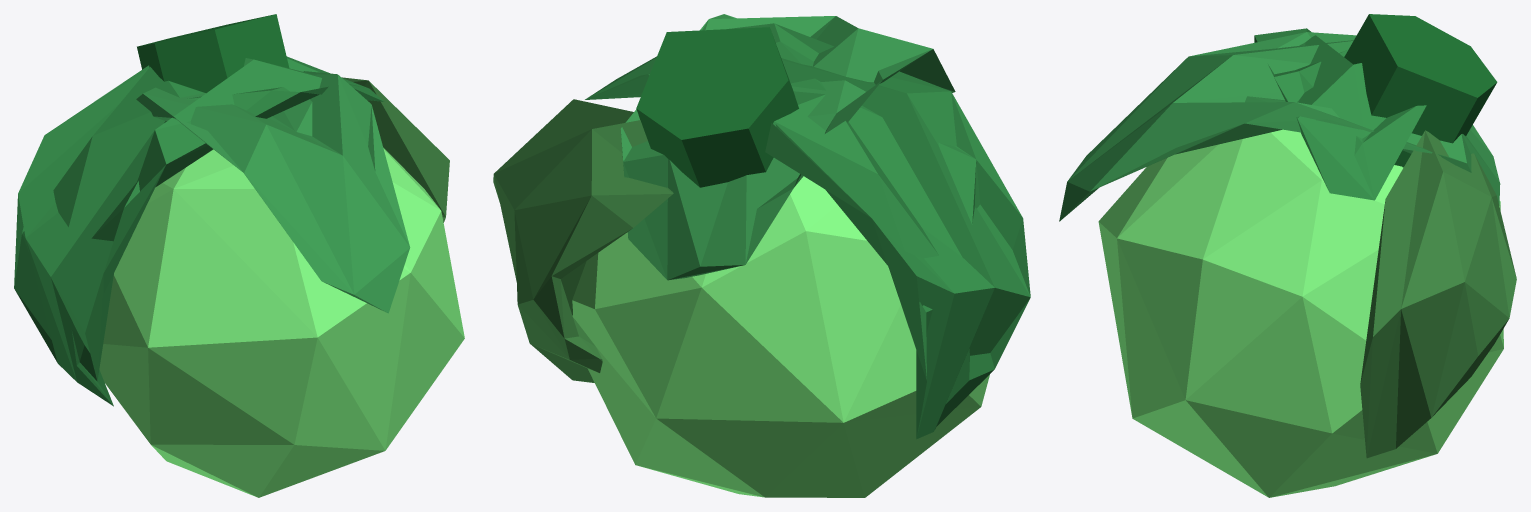
Rendered from cabbage.fbx.
The picture shows the model from 3 angles, left to right: view 1: azimuth 30°, elevation 25°; view 2: azimuth 150°, elevation 25°; view 3: azimuth 270°, elevation 25°; orthographic projection. The views are drawn at different scales.
Visible parts, largest first — view 1: Качан, Лист.002, Лист.003, Стебель, Лист.001; view 2: Качан, Лист.002, Лист.001, Лист.003, Стебель; view 3: Качан, Лист.001, Лист.003, Стебель, Лист.002.
Boxes of the visible parts, bbox=[...] form: Качан: bbox=[99, 148, 464, 497]; Лист.002: bbox=[14, 56, 384, 406]; Лист.003: bbox=[136, 71, 410, 313]; Стебель: bbox=[137, 14, 289, 93]; Лист.001: bbox=[341, 77, 449, 222]; Качан: bbox=[572, 176, 989, 497]; Лист.002: bbox=[585, 23, 1030, 439]; Лист.001: bbox=[493, 99, 673, 382]; Лист.003: bbox=[620, 14, 955, 280]; Стебель: bbox=[636, 27, 798, 187]; Качан: bbox=[1098, 129, 1503, 497]; Лист.001: bbox=[1360, 130, 1516, 458]; Лист.003: bbox=[1059, 32, 1500, 221]; Стебель: bbox=[1344, 14, 1497, 167]; Лист.002: bbox=[1254, 28, 1426, 200].
Size of the model in its own units: 45.61 by 44.55 by 41.07.
